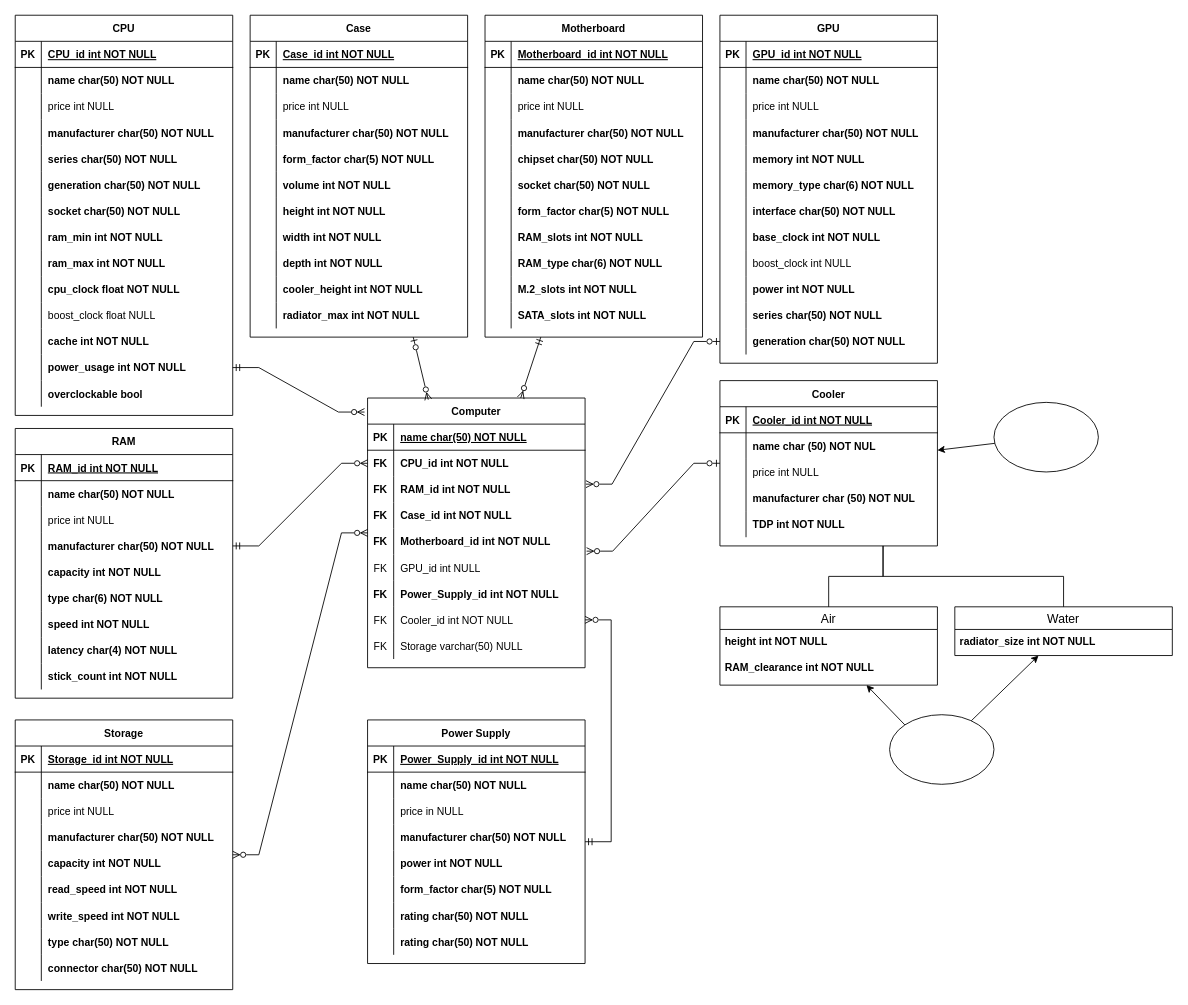
Image size: 1188x1005. Some labels were removed from this diagram. Each missing label, with the centre of its shape:
"sub classes" goes at point 941,749.
"super class" goes at point 1045,437.
